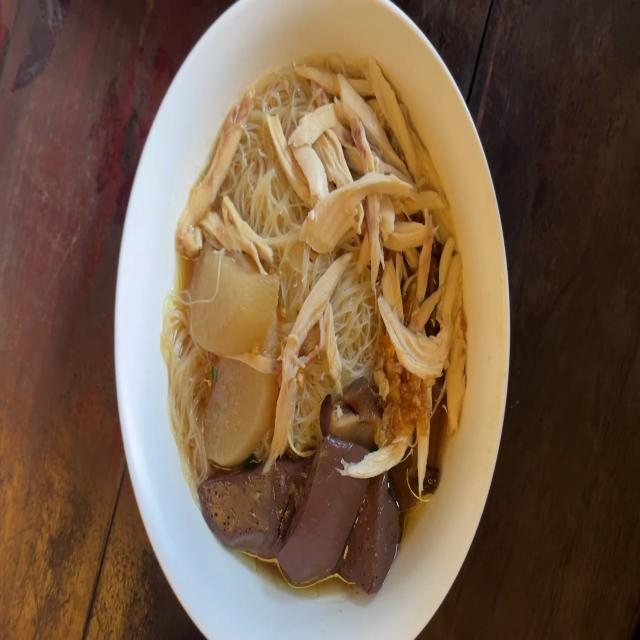noodle: (165, 77, 468, 591)
